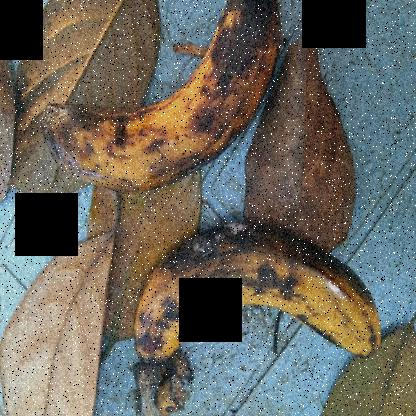overripe: (22, 1, 312, 207), (121, 214, 383, 390)
